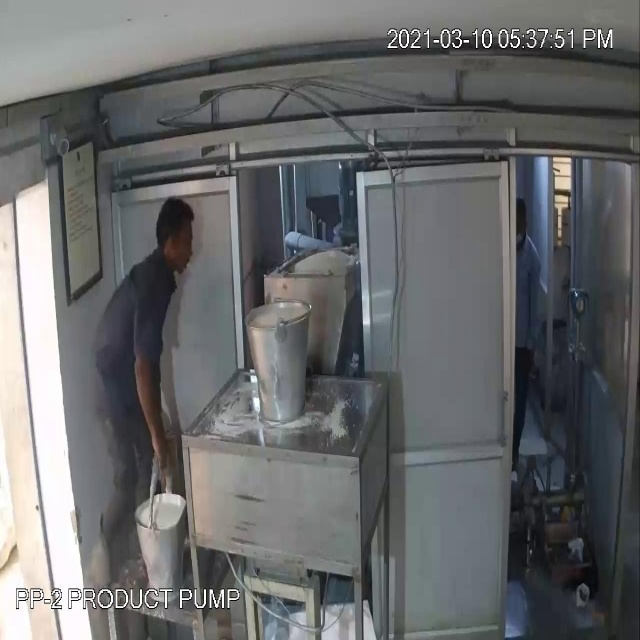Sin_guantes: (132, 335, 178, 488)
